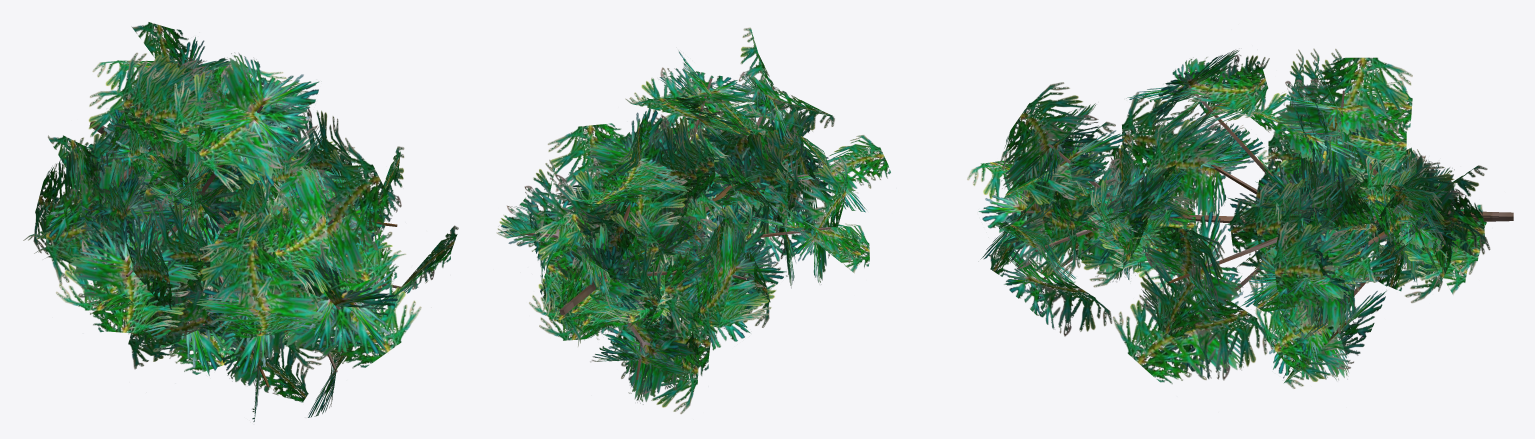
The model's file is pine-sampling-1-applied.glb.
The picture shows the model from 3 angles, left to right: view 1: azimuth 30°, elevation 25°; view 2: azimuth 150°, elevation 25°; view 3: azimuth 270°, elevation 25°; orthographic projection. The views are drawn at different scales.
Visible parts, largest first — view 1: Leaf-1.094, Leaf-1.042, Leaf-1.036, Leaf-1.100, Leaf-1.099, Leaf-1.054, Leaf-1.018, Leaf-1.033, Leaf-1.092, Leaf-1.113, Leaf-1.077, Leaf-1.035 (+54 smaller); view 2: Leaf-1.115, Leaf-1.057, Leaf-1.035, Leaf-1.058, Leaf-1.116, Leaf-1.108, Leaf-1.049, Leaf-1.041, Leaf-1.015, Leaf-1.093, Leaf-1.110, Leaf-1.052 (+64 smaller); view 3: Leaf-1.114, Leaf-1.047, Leaf-1.033, Leaf-1.014, Leaf-1.072, Leaf-1.100, Leaf-1.073, Leaf-1.096, Leaf-1.035, Leaf-1.015, Leaf-1.106, Leaf-1.093 (+65 smaller).
Boxes of the visible parts, <box> form: Leaf-1.094: <box>192,52,318,192</box>; Leaf-1.042: <box>199,237,326,377</box>; Leaf-1.036: <box>66,213,190,333</box>; Leaf-1.100: <box>288,137,393,285</box>; Leaf-1.099: <box>262,162,386,296</box>; Leaf-1.054: <box>46,155,183,284</box>; Leaf-1.018: <box>279,259,421,368</box>; Leaf-1.033: <box>81,198,209,322</box>; Leaf-1.092: <box>174,64,315,181</box>; Leaf-1.113: <box>142,67,214,171</box>; Leaf-1.077: <box>255,253,395,353</box>; Leaf-1.035: <box>97,212,175,329</box>; Leaf-1.115: <box>589,105,689,230</box>; Leaf-1.057: <box>664,219,786,333</box>; Leaf-1.035: <box>791,157,847,282</box>; Leaf-1.058: <box>693,221,765,342</box>; Leaf-1.116: <box>586,128,685,191</box>; Leaf-1.108: <box>603,308,711,404</box>; Leaf-1.049: <box>498,172,613,270</box>; Leaf-1.041: <box>788,135,890,194</box>; Leaf-1.015: <box>547,123,624,211</box>; Leaf-1.093: <box>630,67,757,105</box>; Leaf-1.110: <box>593,123,700,221</box>; Leaf-1.052: <box>666,210,767,327</box>; Leaf-1.114: <box>1273,57,1412,184</box>; Leaf-1.047: <box>1273,222,1398,335</box>; Leaf-1.033: <box>1153,119,1264,223</box>; Leaf-1.014: <box>1139,210,1243,339</box>; Leaf-1.072: <box>1112,273,1244,383</box>; Leaf-1.100: <box>1001,82,1099,188</box>; Leaf-1.073: <box>1141,288,1273,380</box>; Leaf-1.096: <box>995,240,1112,336</box>; Leaf-1.035: <box>1122,92,1257,208</box>; Leaf-1.015: <box>1142,226,1224,320</box>; Leaf-1.106: <box>1255,291,1348,380</box>; Leaf-1.093: <box>1126,57,1260,117</box>.
Size of the model in its own units: 4.39 by 3.99 by 5.92.
Materials: 2 (2 with a texture image).
